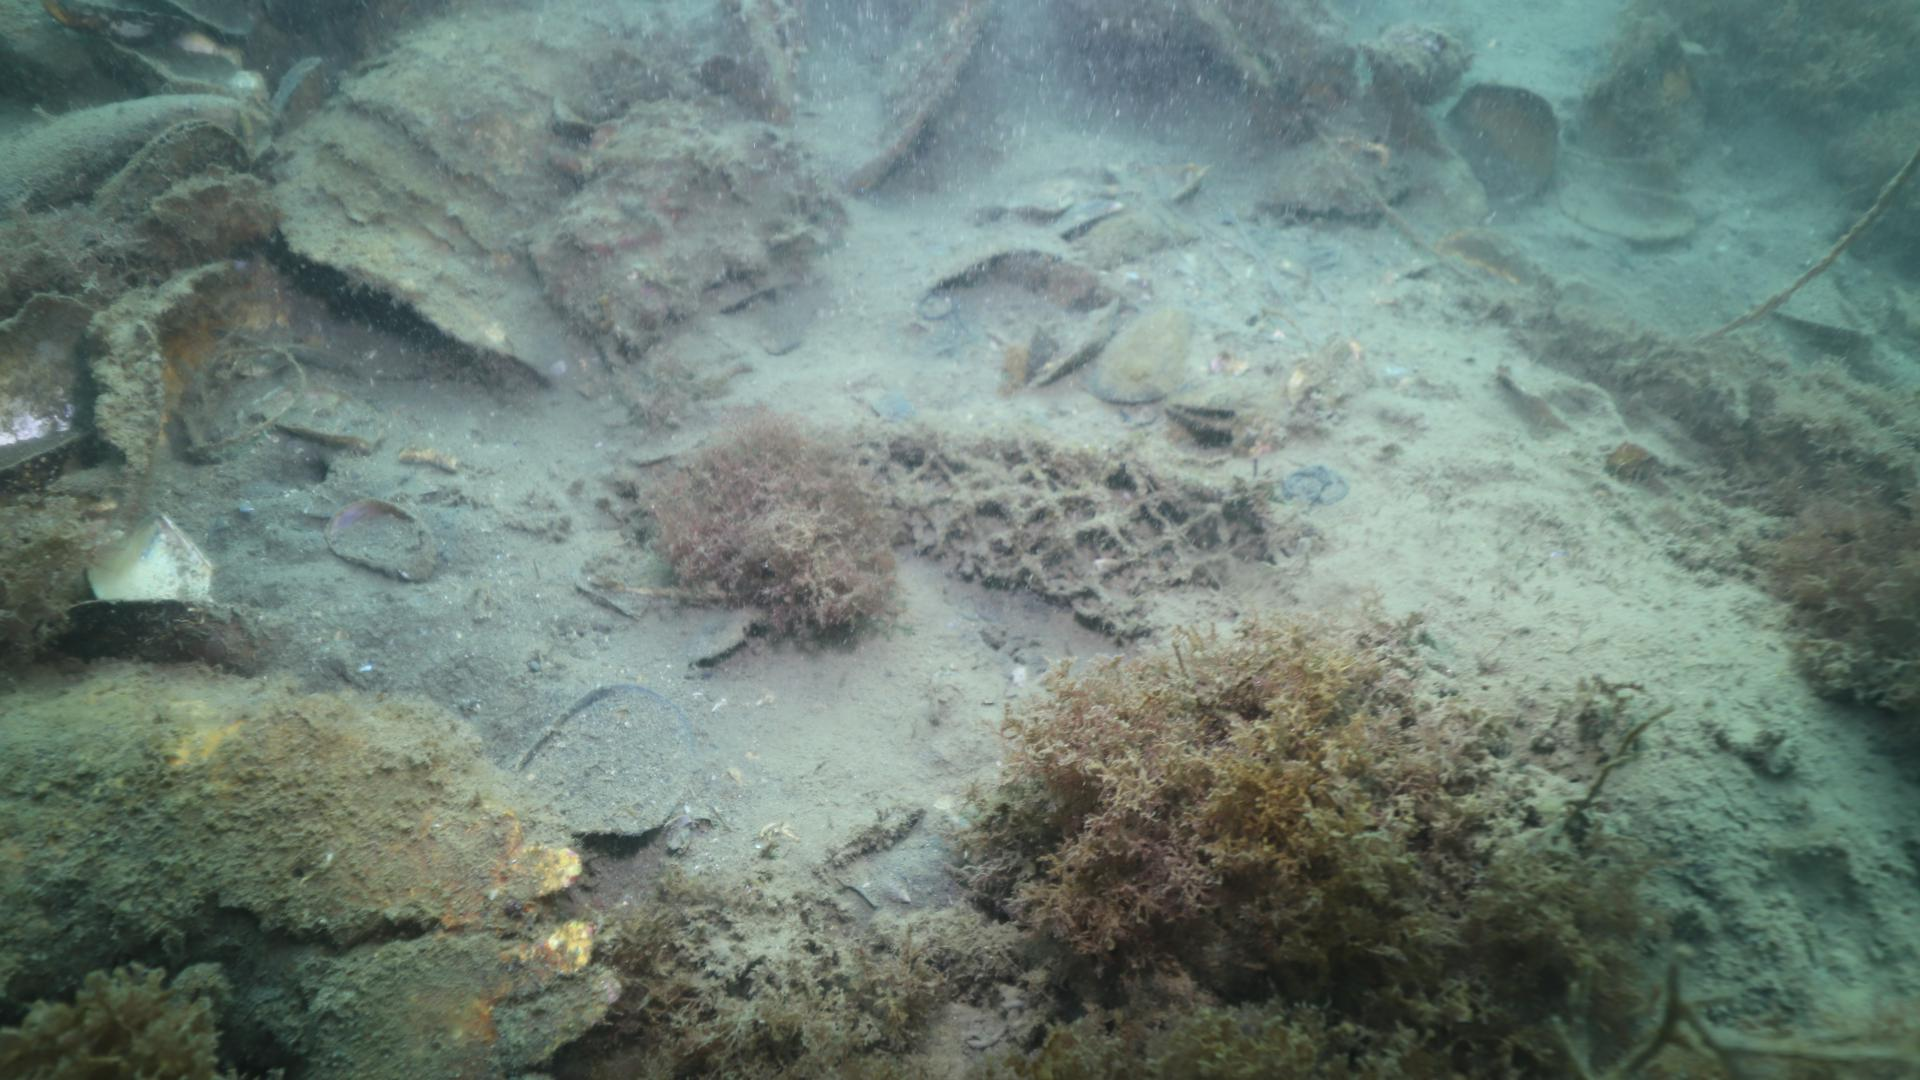fish net: (849, 429, 1276, 637)
